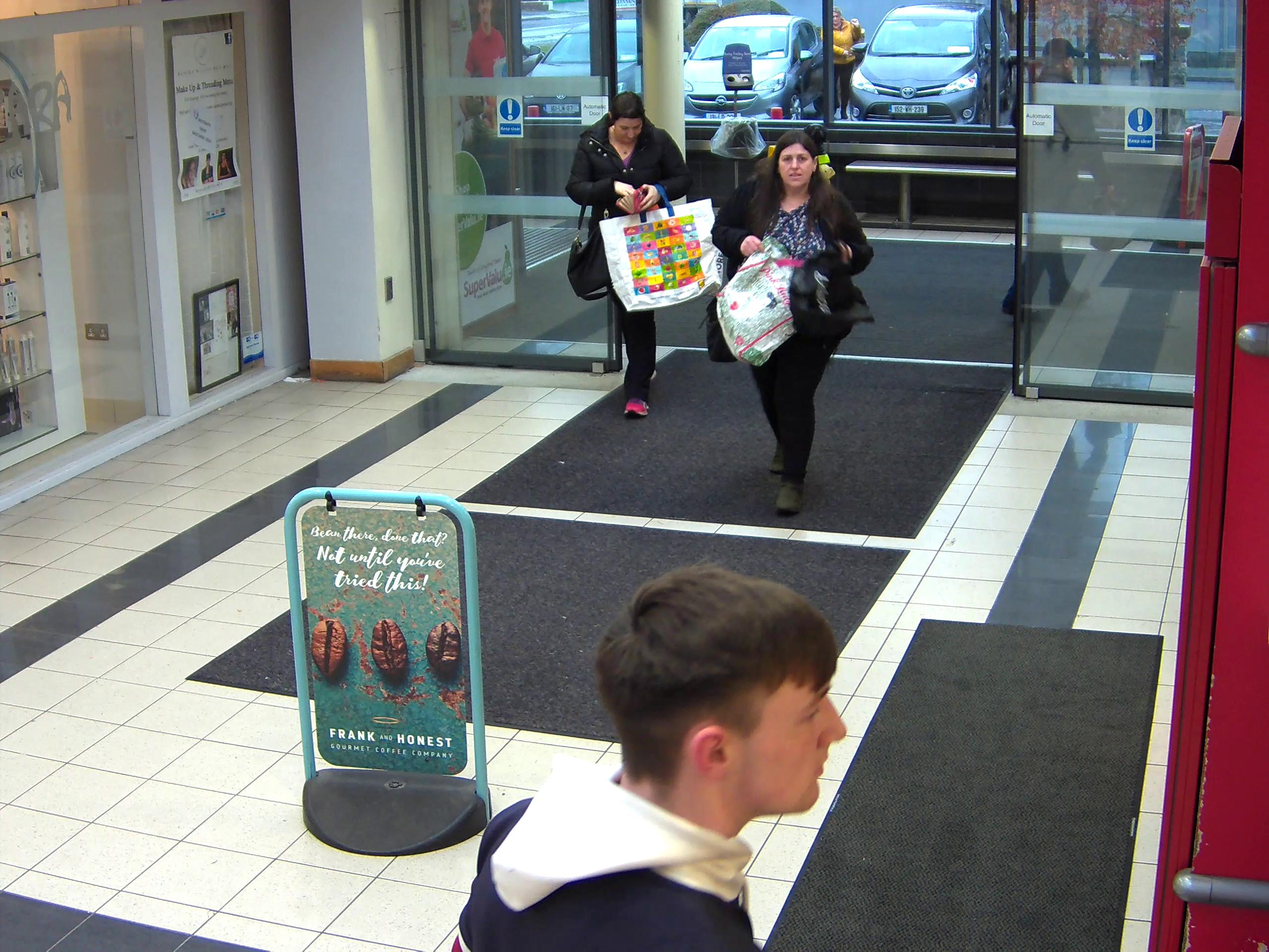backpack-or-handbag: (567, 211, 611, 303)
empty-shopping-bags: (714, 238, 876, 362), (598, 197, 724, 311)
person: (710, 128, 876, 516), (569, 92, 692, 418)
person-with-backpack-handbag-and-shopping-bag-s-: (567, 91, 723, 422)
person-with-empty-shopping-bag-s-: (710, 128, 876, 517)
